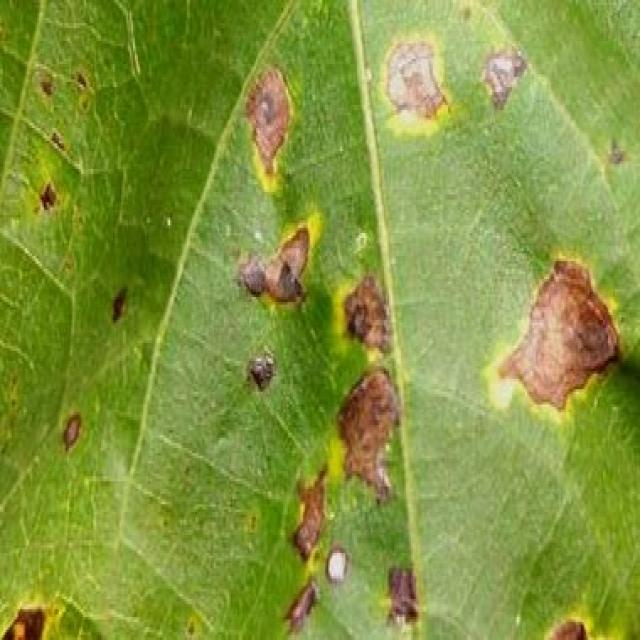Bacterial Blight: (226, 60, 448, 640)
